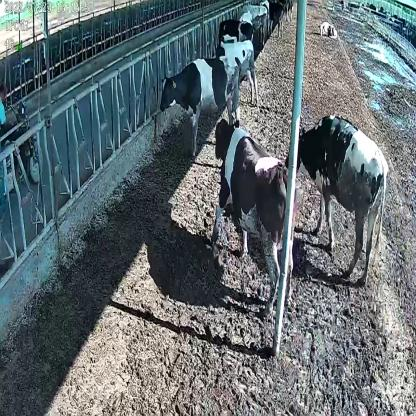cow: (285, 111, 389, 288), (212, 117, 297, 312), (161, 54, 241, 156), (317, 20, 339, 42)
